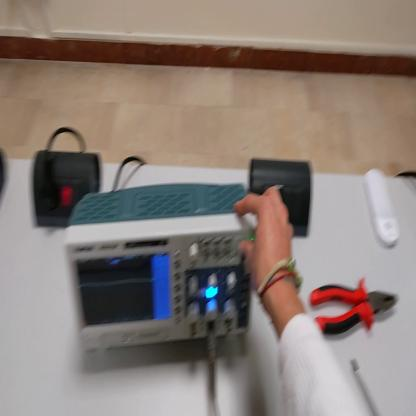hand: (235, 186, 295, 294)
oscilloscope: (64, 178, 261, 360)
pliers: (310, 283, 397, 337)
screwdriver-: (349, 357, 380, 416)
socket: (31, 148, 102, 230), (1, 146, 9, 204)
